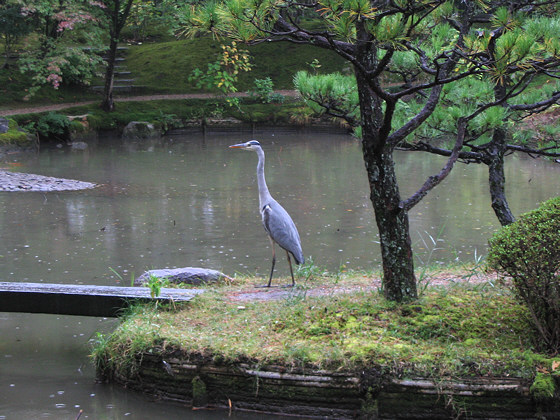heron: (227, 135, 304, 290)
